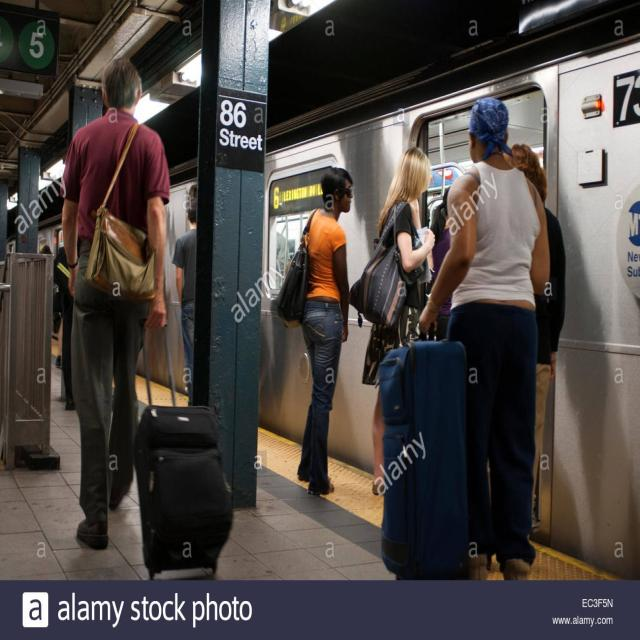body: (412, 92, 554, 588), (53, 52, 173, 558), (348, 143, 437, 497), (274, 159, 356, 503), (502, 143, 568, 537), (32, 235, 79, 412), (171, 192, 198, 408), (430, 180, 463, 330)
